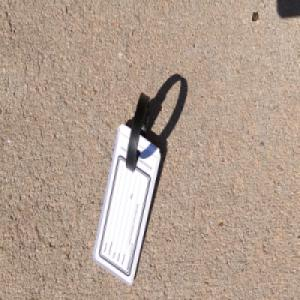LuggageTag: (91, 89, 161, 287)
